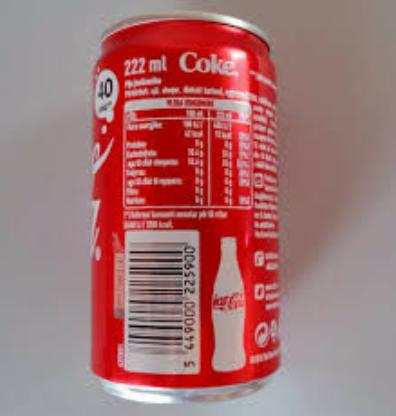Can: (88, 11, 286, 405)
